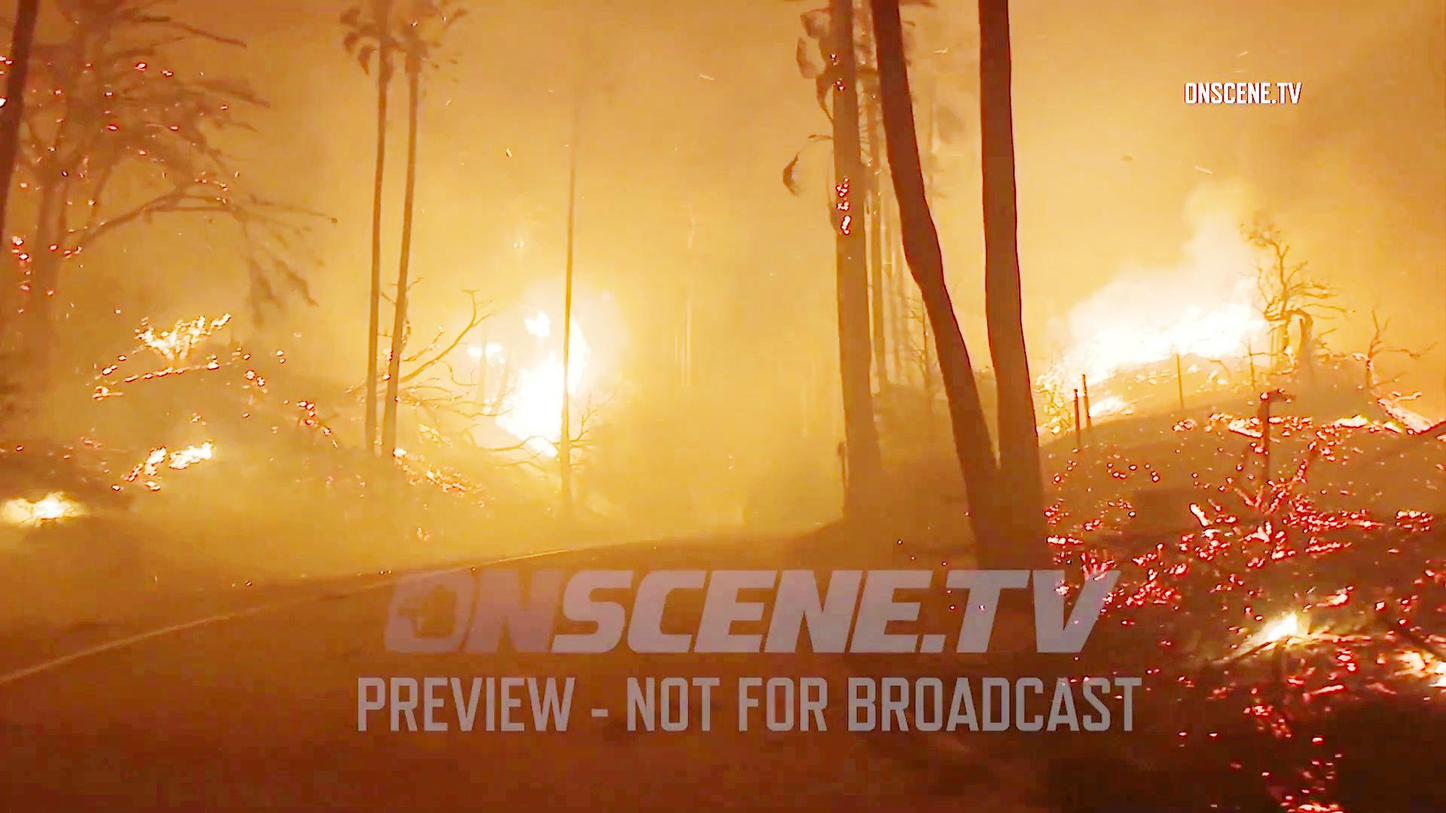fire: (1075, 288, 1264, 369), (494, 311, 597, 429)
